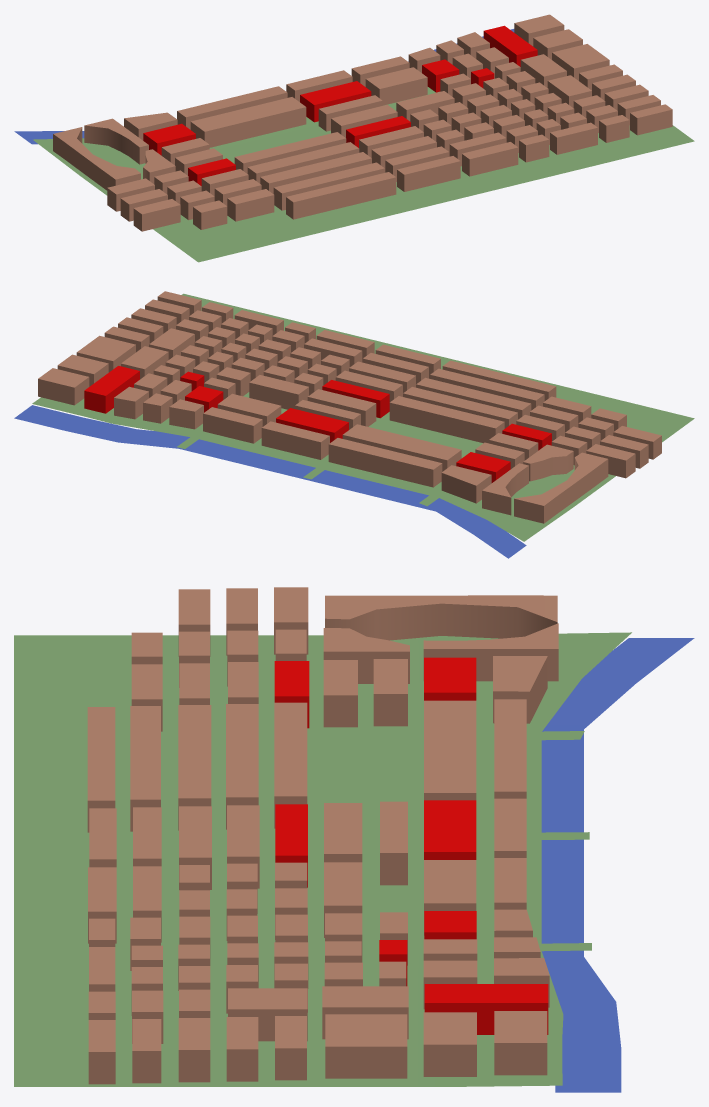
The model's file is Arkham Map.fbx.
3 views of the same model, one above another, from view 1: azimuth 30°, elevation 25°; view 2: azimuth 150°, elevation 25°; view 3: azimuth 270°, elevation 25° (orthographic). The views are drawn at different scales.
Parts seen in each view (by area): view 1: pPlane1, pCube6, pCube28, pCube83, pCube4, pCube7, pCube26, pCube85, pCube23, pCube27, pCube24, pCube25 (+62 smaller); view 2: pPlane1, pPlane2, pCube7, pCube24, pCube83, pCube6, pCube8, pCube9, pCube18, pCube25, pCube27, pCube26 (+53 smaller); view 3: pPlane1, pPlane2, pCube83, pCube65, pCube6, pCube18, pCube24, pCube66, pCube67, pCube85, pCube26, pCube25 (+70 smaller).
Boxes of the visible parts, <box> form: pPlane1: <box>33,87,694,262</box>; pCube6: <box>190,97,306,147</box>; pCube28: <box>286,172,396,219</box>; pCube83: <box>53,127,140,190</box>; pCube4: <box>365,67,427,105</box>; pCube7: <box>177,86,287,129</box>; pCube26: <box>260,152,371,193</box>; pCube85: <box>84,118,148,164</box>; pCube23: <box>397,156,460,191</box>; pCube27: <box>273,162,384,210</box>; pCube24: <box>234,132,346,173</box>; pCube25: <box>247,142,359,183</box>; pPlane1: <box>32,293,694,541</box>; pPlane2: <box>14,405,526,558</box>; pCube7: <box>328,438,442,487</box>; pCube24: <box>389,396,504,443</box>; pCube83: <box>514,452,608,523</box>; pCube6: <box>342,424,461,471</box>; pCube8: <box>261,421,329,459</box>; pCube9: <box>203,407,262,443</box>; pCube18: <box>84,366,139,413</box>; pCube25: <box>403,387,517,428</box>; pCube27: <box>430,368,544,410</box>; pCube26: <box>416,377,531,419</box>; pPlane1: <box>14,632,631,1086</box>; pPlane2: <box>541,638,694,1092</box>; pCube83: <box>325,595,557,640</box>; pCube65: <box>325,1014,407,1078</box>; pCube6: <box>424,700,476,800</box>; pCube18: <box>424,984,548,1034</box>; pCube24: <box>274,702,307,828</box>; pCube66: <box>423,1012,476,1076</box>; pCube67: <box>494,1011,547,1075</box>; pCube85: <box>423,623,558,681</box>; pCube26: <box>178,705,211,830</box>; pCube25: <box>226,704,258,829</box>.
Size of the model in its own units: 30.89 by 1.46 by 19.15.
